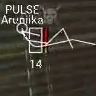hacks_1: (1, 5, 96, 70)
